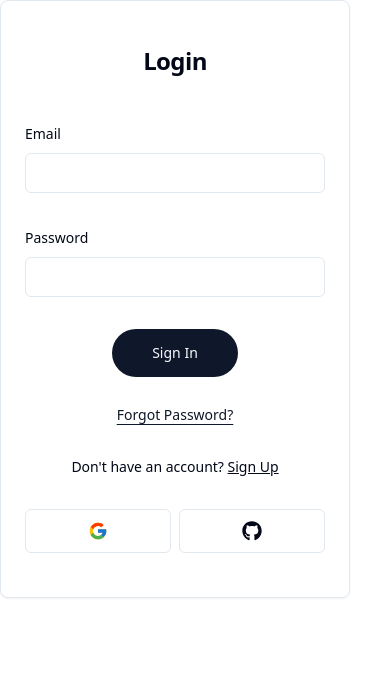
Test case: LoginForm component › should display error message if login fails
In the field labelled "Email": (175, 173) [25, 153, 325, 193], type "john@example.com"
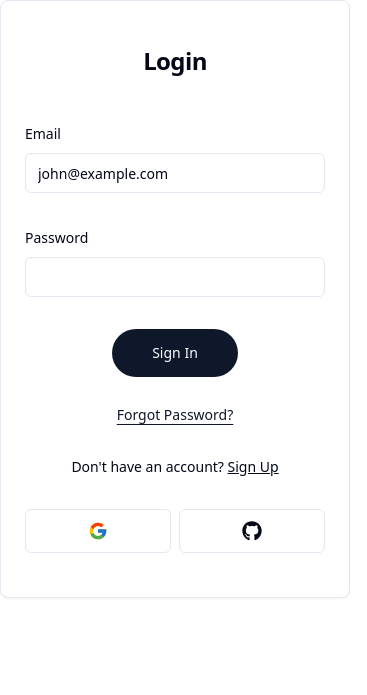
In the password field labelled "Password": (175, 277) [25, 257, 325, 297], type "password123"
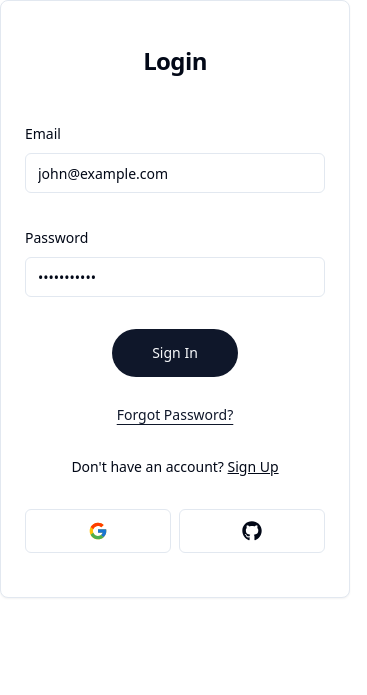
Click the button "Sign In": (175, 353) [112, 329, 238, 377]
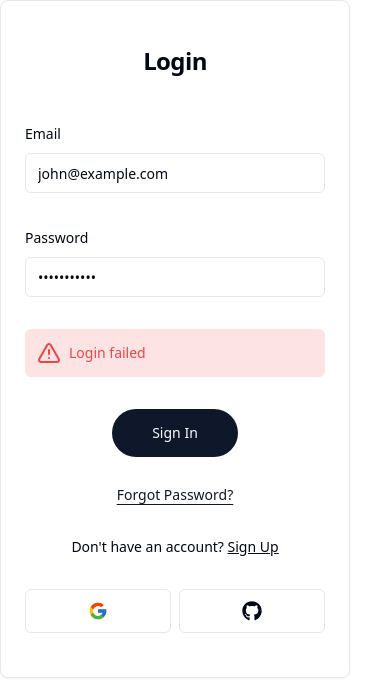
Now the text "Login failed" is shown, box [69, 343, 146, 363]
